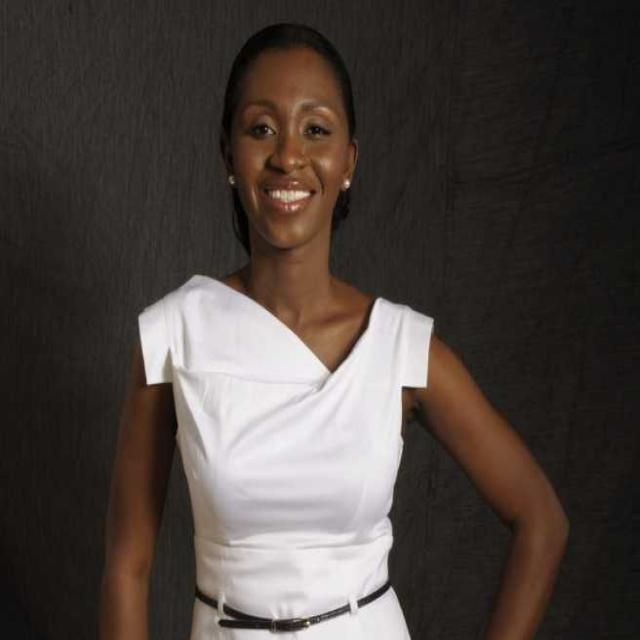mobile_phonerotation: (97, 20, 570, 638)
